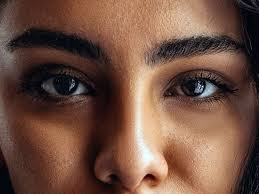pupil: (52, 75, 79, 96), (181, 80, 205, 95)
